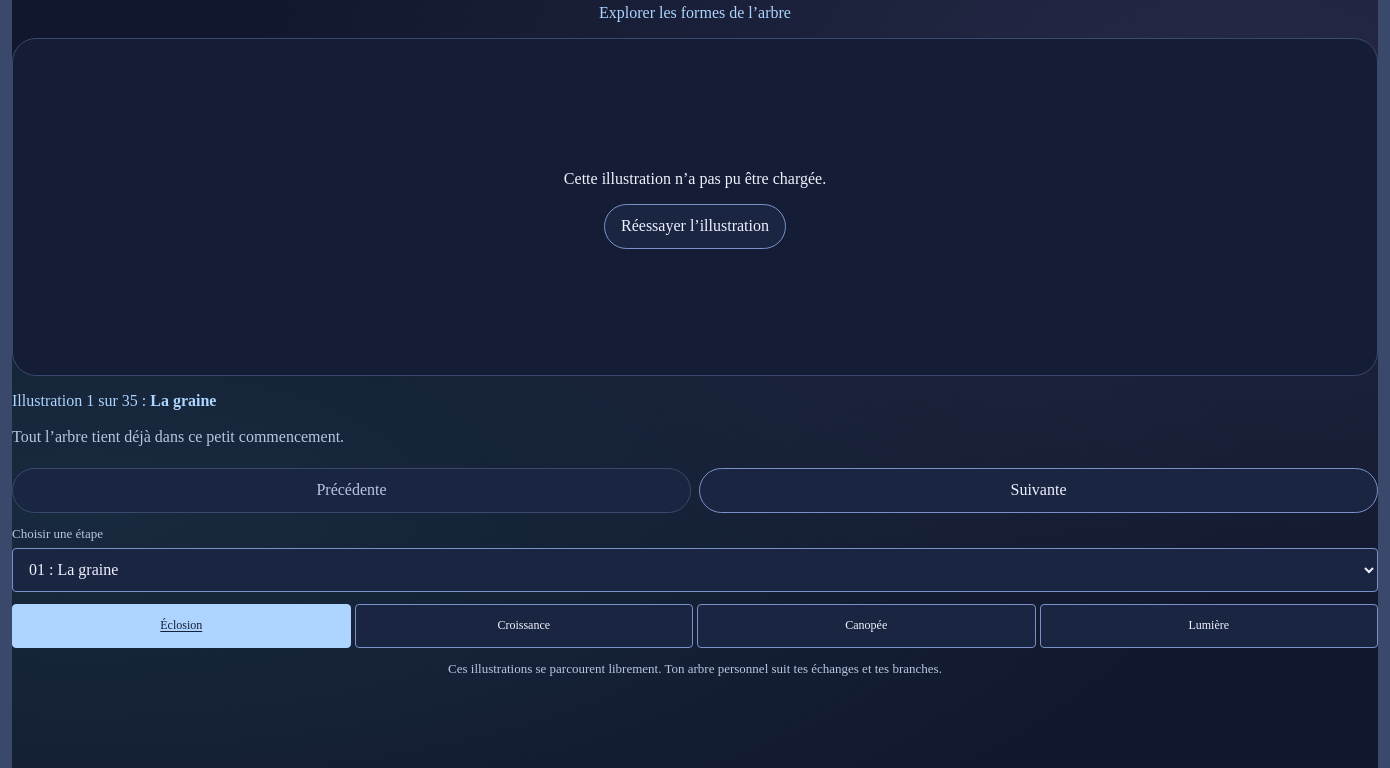
Test: métamorphose de l’arbre — exploration illustrée › une erreur ne bloque pas le passage à une autre illustration
Expected: the text "Tout l’arbre tient déjà dans ce petit commencement." is shown, x1=12 y1=428 x2=344 y2=445
Expected: the dropdown labelled "Choisir une étape" shows "01 : La graine", x1=12 y1=548 x2=1378 y2=592
Click the button with aria-label "Image suivante" at [1038, 490], box x1=699 y1=468 x2=1378 y2=513
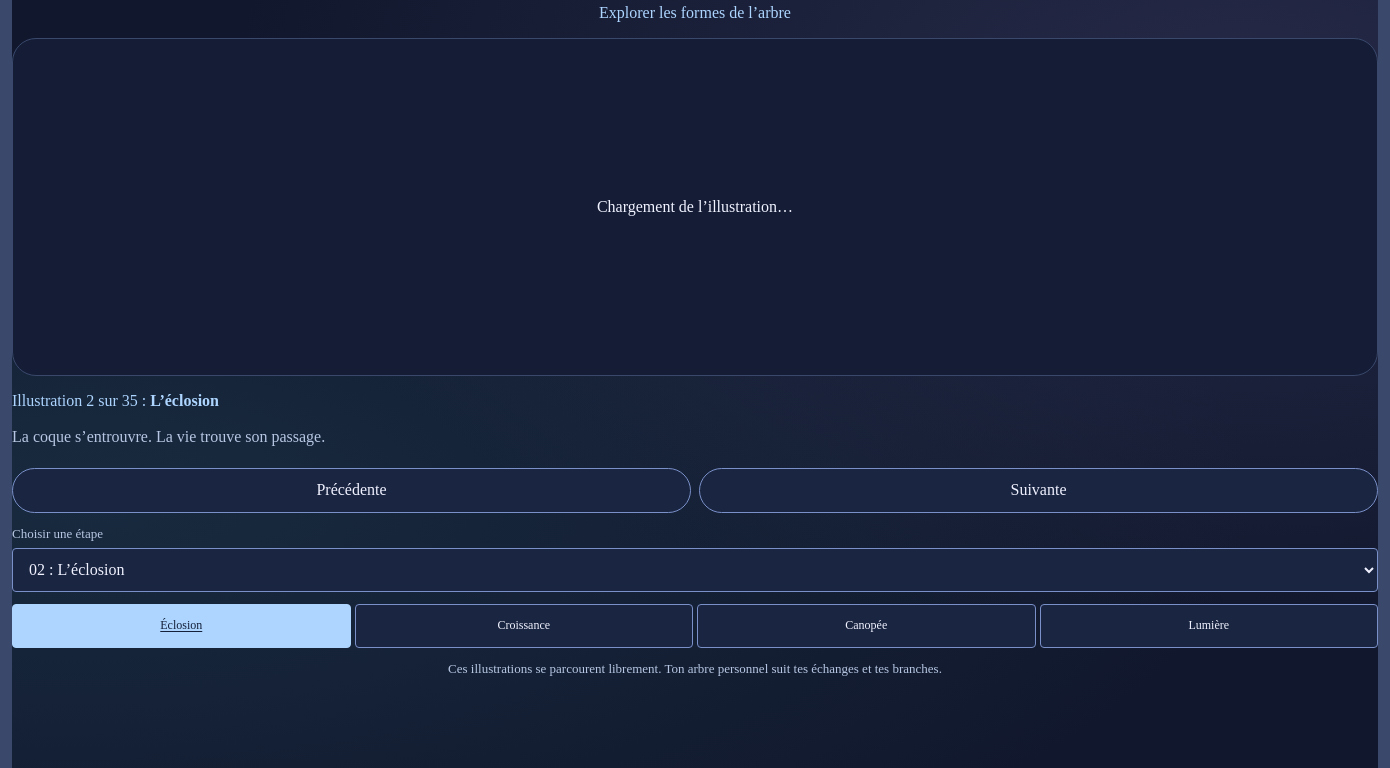
Expected: the text "La coque s’entrouvre. La vie trouve son passage." is shown, x1=12 y1=428 x2=325 y2=445
Expected: the dropdown labelled "Choisir une étape" shows "02 : L’éclosion", x1=12 y1=548 x2=1378 y2=592
Expected: the text "Cette illustration n’a pas pu être chargée." is gone
